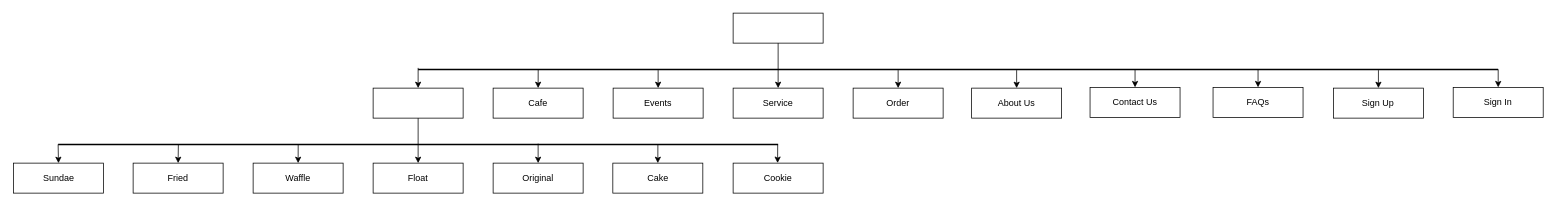
This 1556x206 diagram has some shape labels left out. The box of each missing label's shape, as (x1, y1, x2, y2) in pixels:
Index: (732, 12, 823, 43)
Products: (372, 87, 463, 118)
